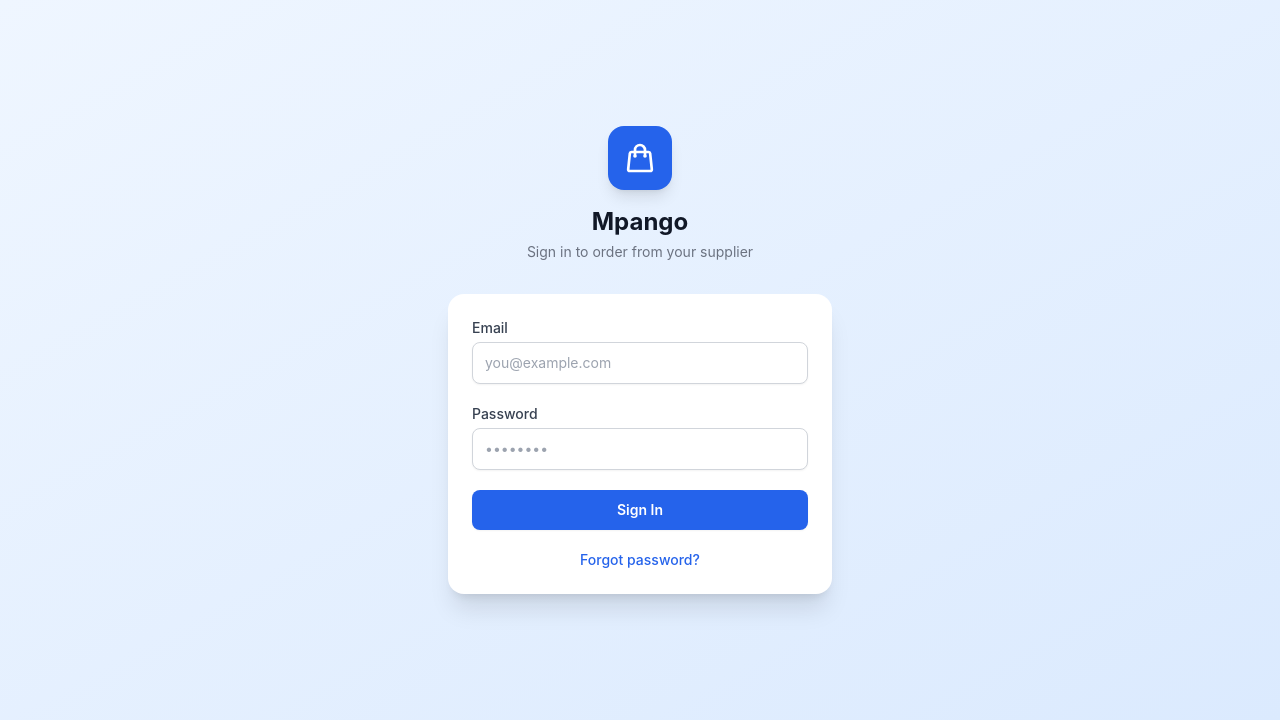
Test: DC-12R1-S2-R2 ClientLoginPage — fixed neutral 401 message › renders fixed neutral "Invalid credentials" for a production flat 401 envelope
Step 1. Type "retailer@example.com" into the field labelled "Email" → (640, 363), box x1=472 y1=342 x2=808 y2=384
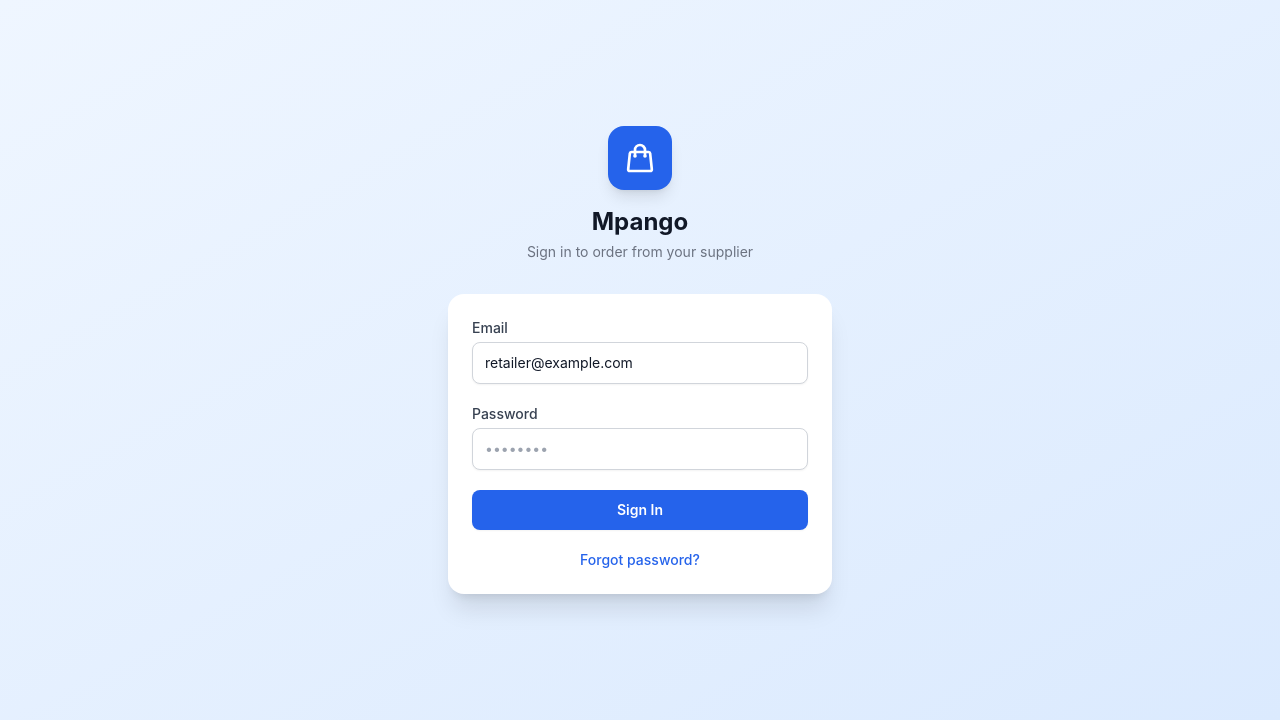
Step 2. Type "anypassword" into the password field labelled "Password" → (640, 449), box x1=472 y1=428 x2=808 y2=470
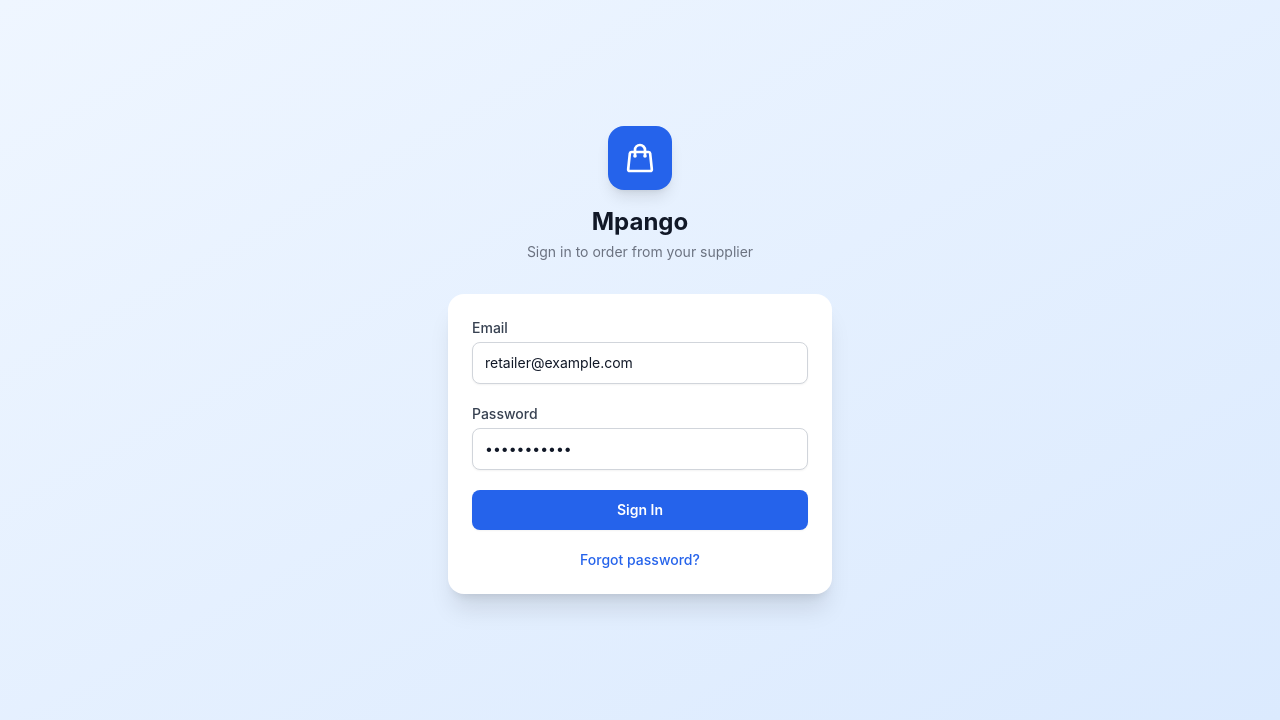
Step 3. Click the button "Sign In" → (640, 510), box x1=472 y1=490 x2=808 y2=530
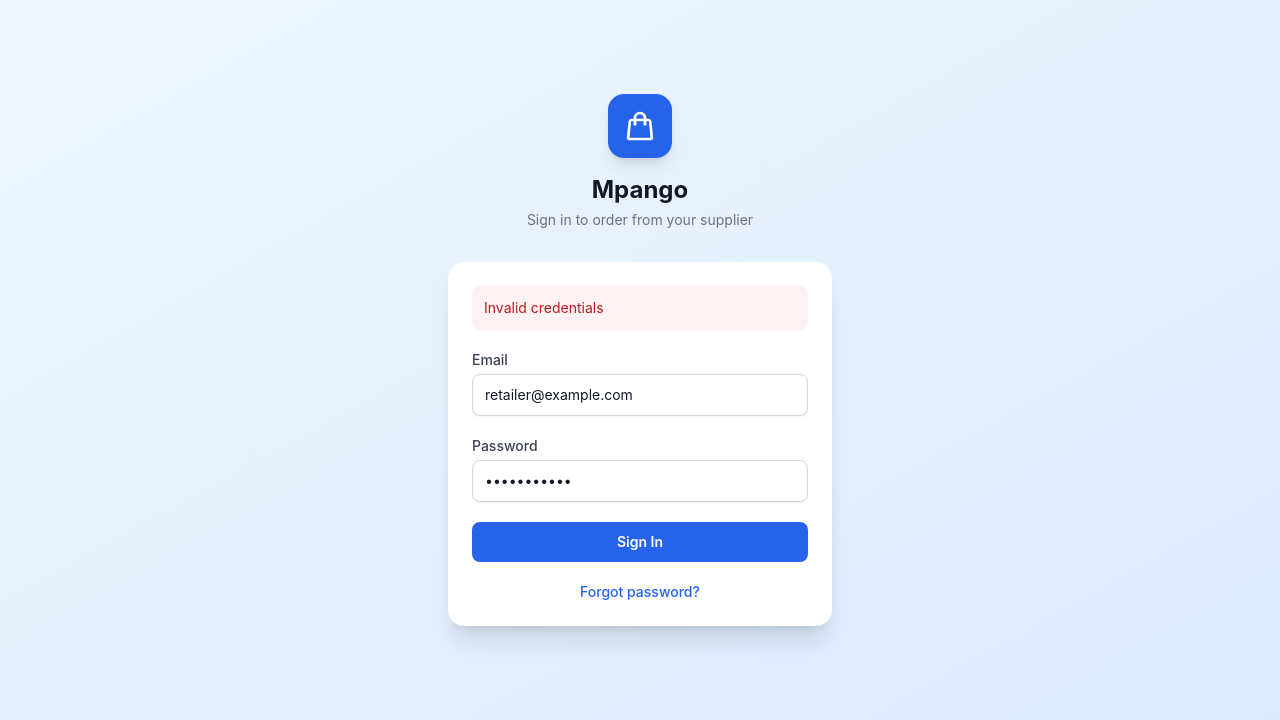
Expected: the text "Invalid credentials" is shown, x1=472 y1=286 x2=808 y2=330
